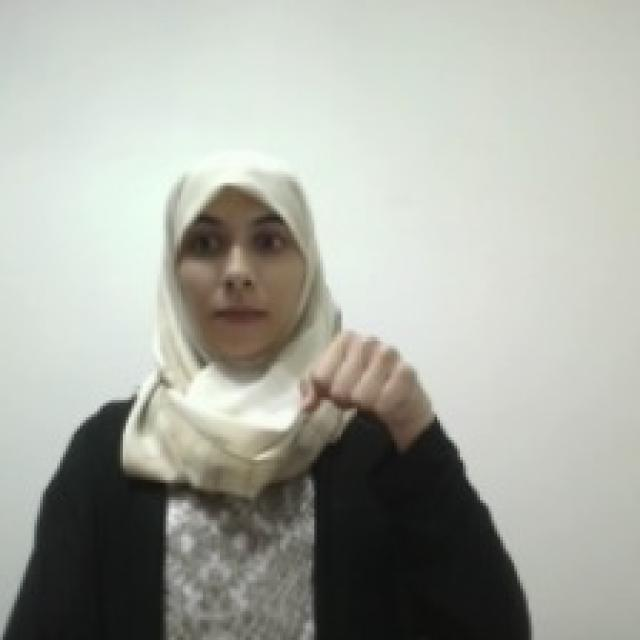yes: (292, 323, 424, 428)
